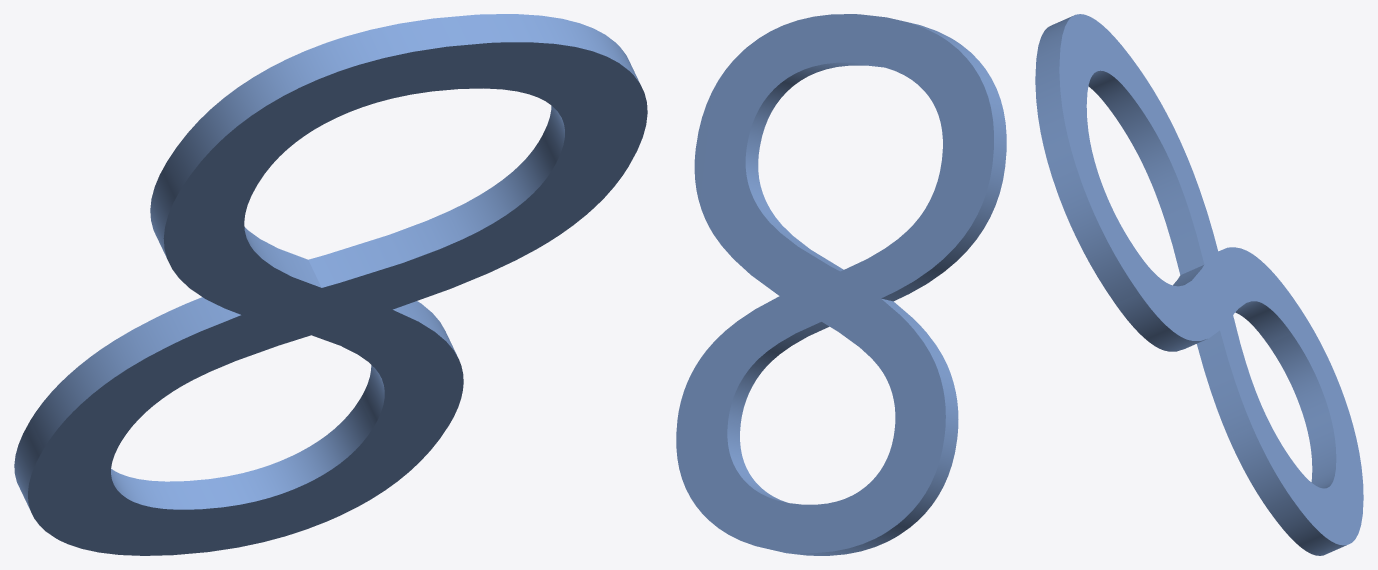
The model's file is New_Number_8.gltf.
3 renders of one model, left to right at view 1: azimuth 30°, elevation 25°; view 2: azimuth 150°, elevation 25°; view 3: azimuth 270°, elevation 25°, orthographic. The views are drawn at different scales.
Parts seen in each view (by area): view 1: Part 575; view 2: Part 575; view 3: Part 575.
Boxes of the visible parts, x1=… form: Part 575: x1=14, y1=14, x2=647, y2=555; Part 575: x1=676, y1=14, x2=1006, y2=555; Part 575: x1=1035, y1=14, x2=1363, y2=555.
Bounding box in the file's own units: 0.00387 × 0.00505 × 0.00305.
